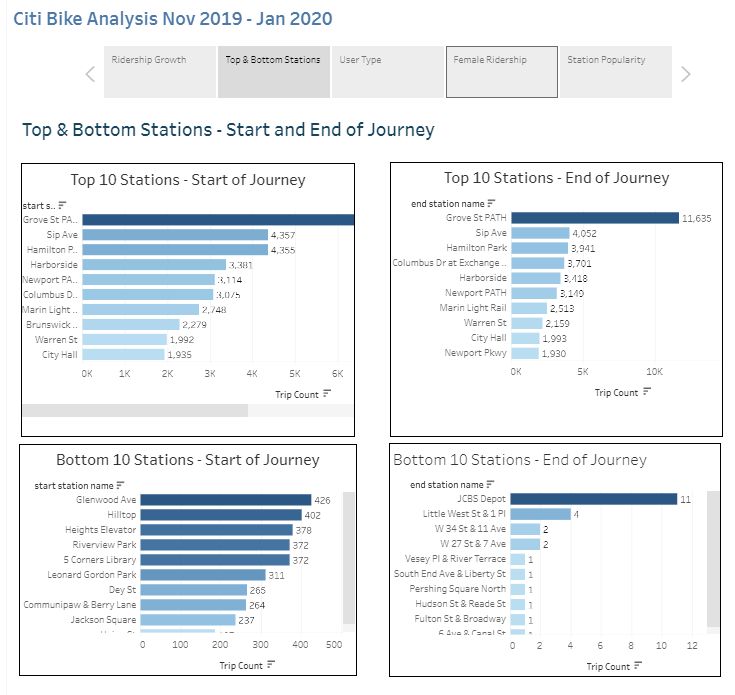

What the dashboard file says about the page in this screenshot:
{"tool":"tableau","page":{"name":"Top and Bottom Stations","canvas":[1000,1000],"units":"permille","ordinal":3},"visuals":[{"type":"worksheet","box":[0,0,1000,1000]},{"type":"worksheet","param":"vert","box":[5.5,9.8,988.9,980.4]},{"type":"worksheet","box":[5.5,9.8,988.9,70.9]},{"type":"worksheet","title":"Top 10 Stations - End of Journey","mark":"Automatic","rows":["end station name"],"cols":["_57B5E63297B8400FB06C19BAD6663A0C"],"box":[501.6,90.5,445.2,452.3]},{"type":"worksheet","title":"Top 10 Stations - Start of Journey","mark":"Automatic","rows":["start station name"],"cols":["_57B5E63297B8400FB06C19BAD6663A0C"],"box":[10,92.9,446.2,449.9]},{"type":"worksheet","title":"Top 10 Stations - Start of Journey","mark":"Automatic","rows":["start station name"],"cols":["_57B5E63297B8400FB06C19BAD6663A0C"],"param":"[federated.0e4tk9l00upwaq14i1hmy0mif4b7].[__tableau_internal_object_id__].[cnt:_","box":[338.1,254.3,87.5,122.2]},{"type":"worksheet","title":"Bottom 10 Stations - End of Journey","mark":"Automatic","rows":["end station name"],"cols":["_57B5E63297B8400FB06C19BAD6663A0C"],"box":[501,552.6,443.3,383.9]},{"type":"worksheet","title":"Bottom 10 Stations - Start of Journey","mark":"Automatic","rows":["start station name"],"cols":["_57B5E63297B8400FB06C19BAD6663A0C"],"box":[8.4,553.8,449.1,380.2]}]}

Visuals, with their boxes on the dashboard's canvas, which has no fixed pixel size, in thousandths of its width and height (x1, y1, x2, y2). These are canvas units, not pixel positions in the 735x695 screenshot, which may show the page scaled, cropped or inside an application window:
worksheet: 0/0/1000/1000
worksheet: 6/10/994/990
worksheet: 6/10/994/81
"Top 10 Stations - End of Journey" worksheet: 502/90/947/543
"Top 10 Stations - Start of Journey" worksheet: 10/93/456/543
"Top 10 Stations - Start of Journey" worksheet: 338/254/426/376
"Bottom 10 Stations - End of Journey" worksheet: 501/553/944/936
"Bottom 10 Stations - Start of Journey" worksheet: 8/554/458/934
